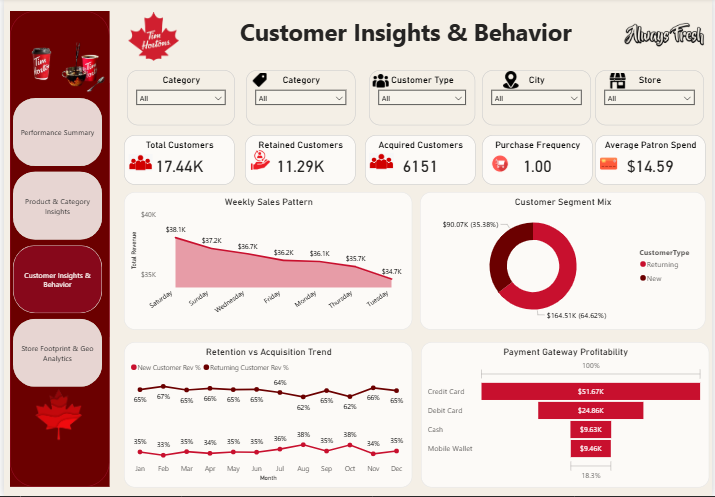

Layout of this report page (visuals, bound fields, positions):
{"tool":"powerbi","page":{"name":"Customer Insights & Behavior","canvas":[1280,900],"ordinal":2},"visuals":[{"type":"shape","box":[10,24.3,180,860],"z":0},{"type":"image","box":[206.7,24.6,128.7,88.2],"z":1000},{"type":"image","box":[1118.6,20,148.6,92.9],"z":2000},{"type":"image","box":[10,67.1,114.3,108.6],"z":3000},{"type":"image","box":[16,47.9,174.2,165.5],"z":4000},{"type":"image","box":[47.1,680,104.3,145.7],"z":5000},{"type":"textbox","box":[360,27.5,733,68],"z":6000},{"type":"slicer","title":"Category","fields":{"Values":["DimProduct.Category"]},"box":[221.7,130,195,100],"z":7000},{"type":"image","box":[435,135,53.3,25],"z":8000},{"type":"slicer","title":"Customer Type","fields":{"Values":["FactSales.CustomerType"]},"box":[660,130,191.7,100],"z":9000},{"type":"slicer","title":"Store","fields":{"Values":["DimStore.Store"]},"box":[1068.3,130,196.7,100],"z":10000},{"type":"image","box":[1091.7,135,35,28.3],"z":11000},{"type":"card","title":"Total Customers","fields":{"Values":["CountNonNull(FactSales.CustomerType)"]},"box":[216.9,247.2,199.5,89.6],"z":12000},{"type":"card","title":"Retained Customers","fields":{"Values":["CountNonNull(FactSales.CustomerType)"]},"box":[435.2,247.2,199.5,89.6],"z":13000},{"type":"image","box":[435.4,272.3,55.4,40],"z":14000},{"type":"card","title":"Acquired Customers","fields":{"Values":["CountNonNull(FactSales.CustomerType)"]},"box":[652,247.2,199.5,89.6],"z":15000},{"type":"image","box":[660,272.3,44.6,44.6],"z":16000},{"type":"card","title":"Purchase Frequency","fields":{"Values":["_Measures.Avg Orders Per Customer"]},"box":[863.1,247.2,199.5,89.6],"z":17000},{"type":"card","title":"Average Patron Spend","fields":{"Values":["_Measures.Avg Cust Spend"]},"box":[1068.4,247.2,199.5,89.6],"z":18000},{"type":"areaChart","title":"Weekly Sales Pattern","fields":{"Category":["DimDate.DayName"],"Y":["_Measures.Total Revenue"]},"box":[217.1,350,521.4,248.6],"z":19000},{"type":"donutChart","title":"Customer Segment Mix","fields":{"Category":["FactSales.CustomerType"],"Y":["_Measures.Total Revenue"]},"box":[751.4,350,515.7,248.6],"z":20000},{"type":"lineChart","title":"Retention vs Acquisition Trend","fields":{"Category":["DimDate.Month"],"Y":["_Measures.New Customer Rev %","_Measures.Returning Customer Rev %"]},"box":[217.1,621.4,521.4,262.9],"z":21000},{"type":"funnel","title":"Payment Gateway Profitability","fields":{"Category":["FactSales.PaymentMethod"],"Y":["_Measures.Total Profit"]},"box":[752.9,621.4,521.4,262.9],"z":22000},{"type":"image","box":[876.9,283.1,40,30.8],"z":23000},{"type":"image","box":[663.3,135,35,28.3],"z":24000},{"type":"image","box":[1076.9,283.1,30.8,30.8],"z":25000},{"type":"image","box":[221.5,281.5,49.2,30.8],"z":26000},{"type":"slicer","title":"Category","fields":{"Values":["DimProduct.Category"]},"box":[436.7,130,198.3,100],"z":27000},{"type":"slicer","title":"City","fields":{"Values":["DimLocation.City"]},"box":[863.3,130,196.7,100],"z":28000},{"type":"image","box":[900,131.7,31.7,31.7],"z":29000},{"type":"pageNavigator","box":[16.7,180,161.7,523.3],"z":29001}]}

Visuals, with their boxes on the page's 1280x900 design canvas (x1, y1, x2, y2). These are canvas units, not pixel positions in the 715x497 screenshot, which may show the page scaled, cropped or inside an application window:
shape: select_region(10, 24, 190, 884)
image: select_region(207, 25, 335, 113)
image: select_region(1119, 20, 1267, 113)
image: select_region(10, 67, 124, 176)
image: select_region(16, 48, 190, 213)
image: select_region(47, 680, 151, 826)
textbox: select_region(360, 28, 1093, 96)
"Category" slicer: select_region(222, 130, 417, 230)
image: select_region(435, 135, 488, 160)
"Customer Type" slicer: select_region(660, 130, 852, 230)
"Store" slicer: select_region(1068, 130, 1265, 230)
image: select_region(1092, 135, 1127, 163)
"Total Customers" card: select_region(217, 247, 416, 337)
"Retained Customers" card: select_region(435, 247, 635, 337)
image: select_region(435, 272, 491, 312)
"Acquired Customers" card: select_region(652, 247, 852, 337)
image: select_region(660, 272, 705, 317)
"Purchase Frequency" card: select_region(863, 247, 1063, 337)
"Average Patron Spend" card: select_region(1068, 247, 1268, 337)
"Weekly Sales Pattern" areaChart: select_region(217, 350, 738, 599)
"Customer Segment Mix" donutChart: select_region(751, 350, 1267, 599)
"Retention vs Acquisition Trend" lineChart: select_region(217, 621, 738, 884)
"Payment Gateway Profitability" funnel: select_region(753, 621, 1274, 884)
image: select_region(877, 283, 917, 314)
image: select_region(663, 135, 698, 163)
image: select_region(1077, 283, 1108, 314)
image: select_region(222, 282, 271, 312)
"Category" slicer: select_region(437, 130, 635, 230)
"City" slicer: select_region(863, 130, 1060, 230)
image: select_region(900, 132, 932, 163)
pageNavigator: select_region(17, 180, 178, 703)
